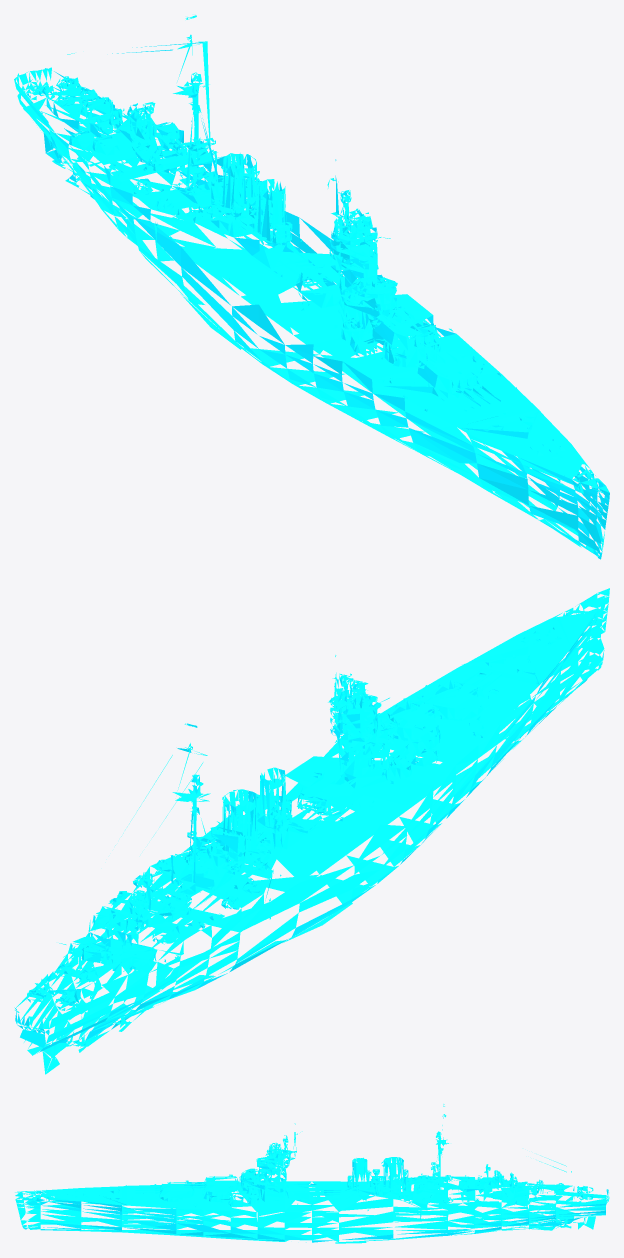
Rendered from Duncan.glb.
The picture shows the model from 3 angles, top to bottom: view 1: azimuth 30°, elevation 25°; view 2: azimuth 150°, elevation 25°; view 3: azimuth 270°, elevation 25°; orthographic projection. The views are drawn at different scales.
Bounding box in the file's own units: 2.16 × 4.06 × 17.5.
